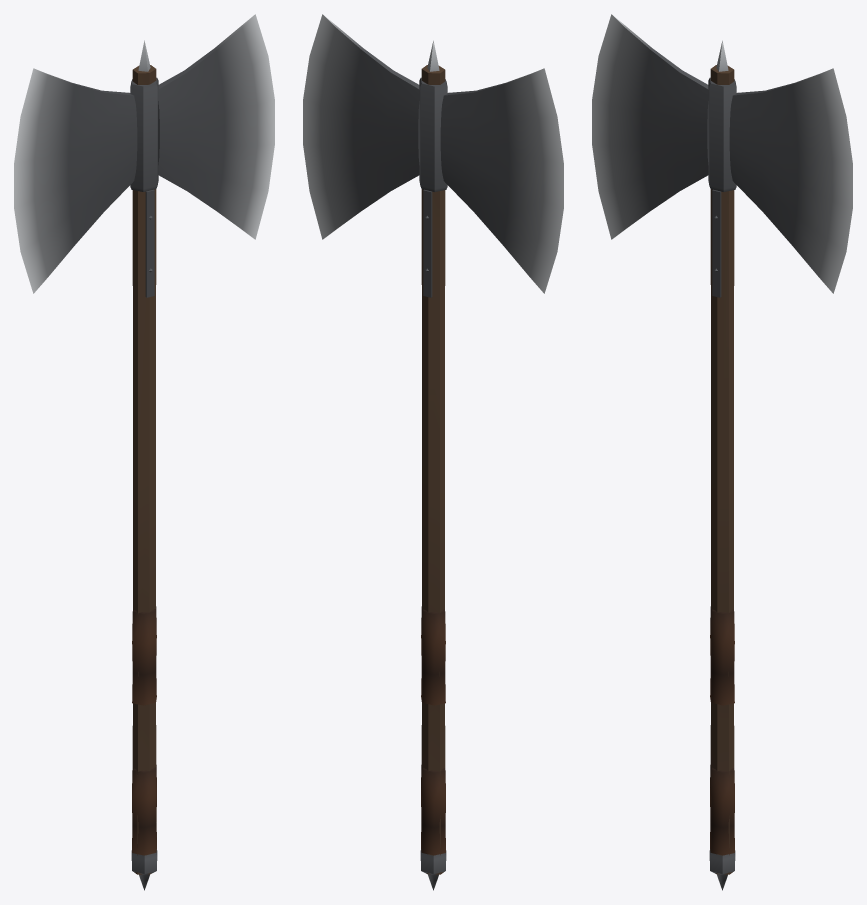
File: axe_great.glb
The picture shows the model from 3 angles, left to right: view 1: azimuth 30°, elevation 25°; view 2: azimuth 150°, elevation 25°; view 3: azimuth 330°, elevation 25°; orthographic projection.
Visible parts, largest first — view 1: axe_great; view 2: axe_great; view 3: axe_great.
Part boxes in pixels (x1=…): axe_great: x1=14, y1=14, x2=274, y2=890; axe_great: x1=303, y1=14, x2=563, y2=890; axe_great: x1=592, y1=14, x2=852, y2=890.
Size of the model in its own units: 0.4651 by 1.45 by 0.0446.
